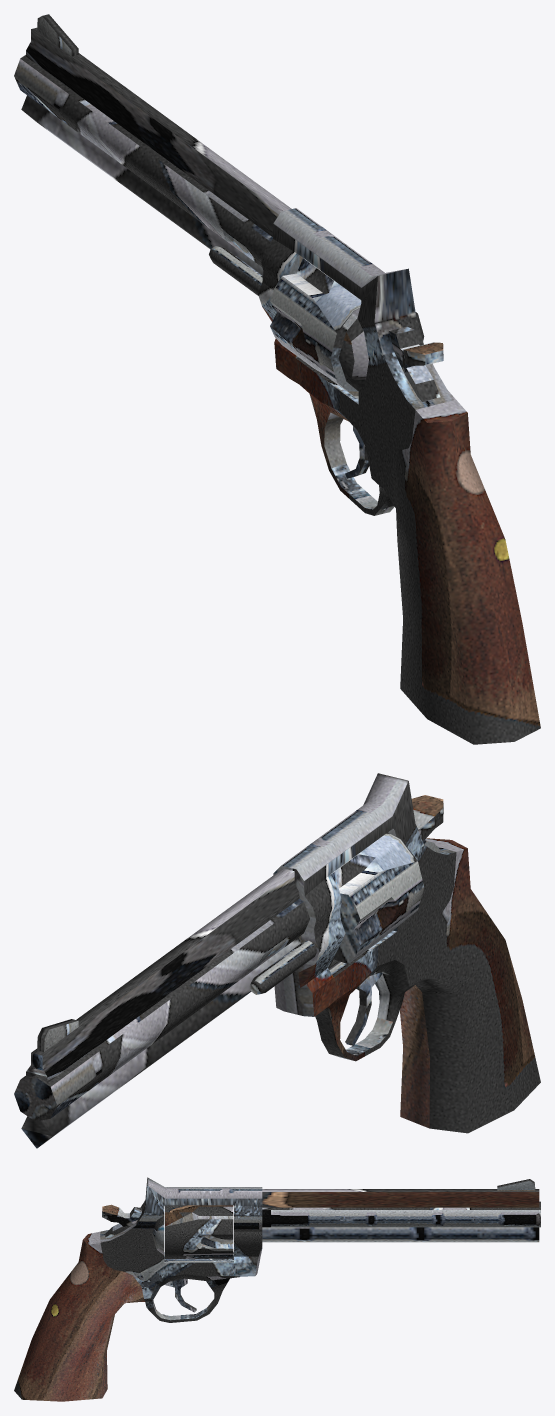
Rendered from PythonHunter.fbx.
3 renders of one model, top to bottom at view 1: azimuth 30°, elevation 25°; view 2: azimuth 150°, elevation 25°; view 3: azimuth 270°, elevation 25°, orthographic. The views are drawn at different scales.
Visible parts, largest first — view 1: PythonHunter; view 2: PythonHunter; view 3: PythonHunter.
Boxes of the visible parts, box(x1,y1,x2,y2) form: PythonHunter: box(14, 14, 540, 744); PythonHunter: box(14, 773, 540, 1148); PythonHunter: box(14, 1177, 540, 1401).
Bounding box in the file's own units: 0.0233 × 0.2068 × 0.0913.
